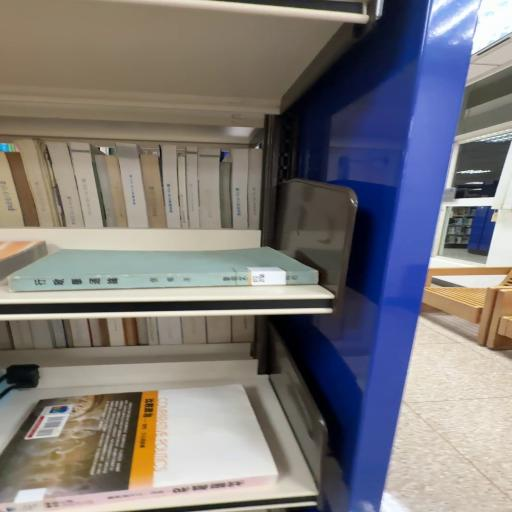flat: (1, 385, 279, 512), (9, 248, 319, 293)
